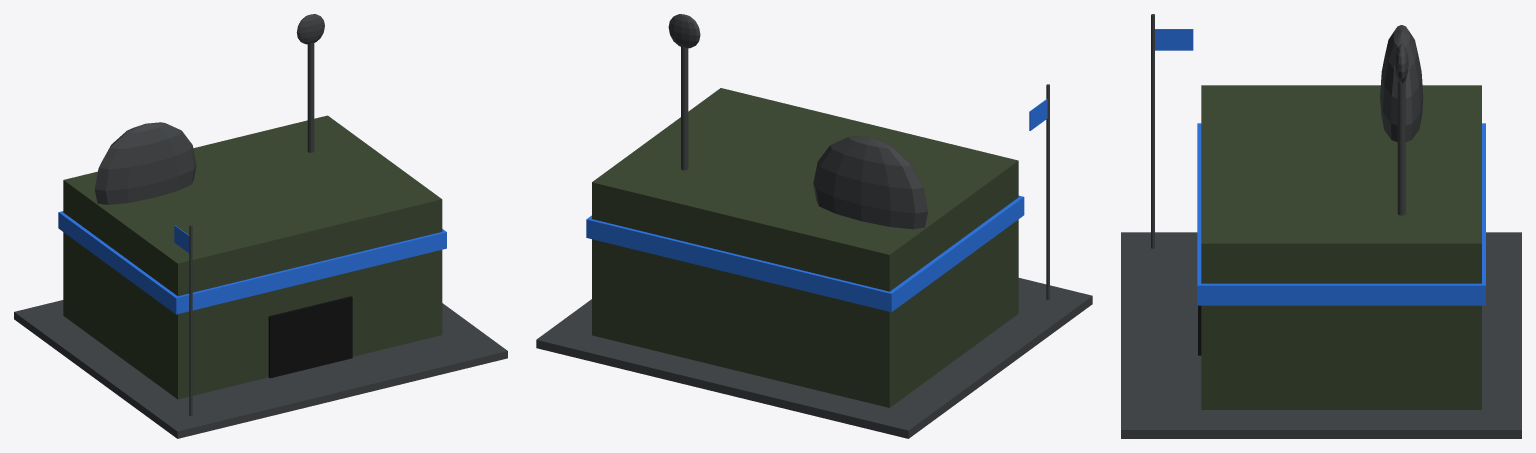
Rendered from ru_command_hq.glb.
3 views of the same model, side by side, from view 1: azimuth 30°, elevation 25°; view 2: azimuth 150°, elevation 25°; view 3: azimuth 270°, elevation 25° (orthographic). The views are drawn at different scales.
Parts seen in each view (by area): view 1: main, base, team_band, dish_big, door, mast, flagpole, dish; view 2: main, base, team_band, dish_big, mast, dish, flagpole; view 3: main, base, team_band, dish_big, mast, flagpole, flag, dish.
Part boxes in pixels (x1,y1,x2,y2): main: (63, 115, 442, 399); base: (14, 300, 507, 438); team_band: (58, 211, 446, 314); dish_big: (94, 122, 196, 204); door: (268, 296, 352, 378); mast: (307, 42, 314, 152); flagpole: (189, 224, 192, 416); dish: (296, 14, 324, 44); main: (592, 88, 1018, 407); base: (536, 278, 1092, 438); team_band: (586, 195, 1024, 312); dish_big: (813, 136, 927, 229); mast: (681, 46, 688, 170); dish: (668, 14, 700, 48); flagpole: (1046, 84, 1049, 299); main: (1201, 85, 1481, 409); base: (1121, 232, 1521, 438); team_band: (1197, 123, 1485, 305); dish_big: (1380, 25, 1423, 142); mast: (1397, 80, 1405, 215); flagpole: (1151, 14, 1154, 248); flag: (1155, 29, 1193, 50); dish: (1394, 44, 1408, 83).
Bounding box in the file's own units: 14 × 11.35 × 12.
